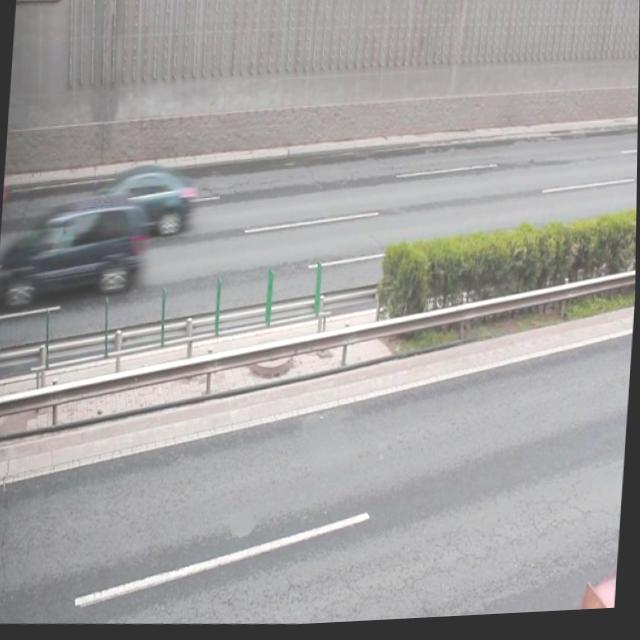car: (93, 163, 200, 243)
truck: (25, 186, 144, 308)
